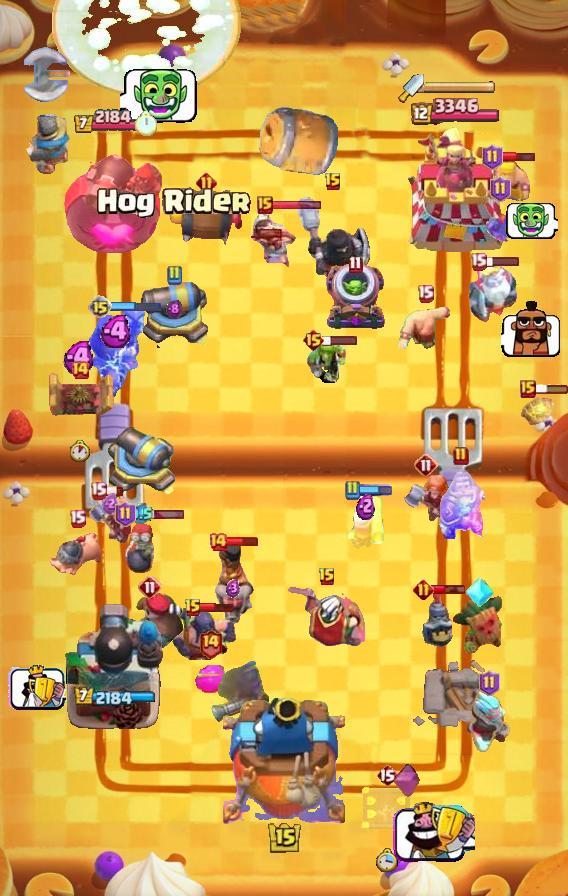axe: (21, 46, 77, 104)
bar: (110, 300, 162, 313), (133, 509, 185, 520), (270, 200, 322, 211), (501, 150, 536, 163), (431, 583, 467, 595), (357, 484, 393, 496), (322, 334, 358, 346), (484, 255, 520, 267), (534, 383, 568, 395), (199, 602, 235, 613), (225, 536, 259, 547), (104, 485, 124, 497)
bar-level: (198, 628, 223, 659), (138, 575, 162, 599), (414, 453, 438, 477), (88, 295, 112, 319), (302, 328, 325, 352), (479, 670, 500, 696), (115, 501, 136, 527), (490, 176, 511, 202), (482, 144, 503, 170), (376, 763, 398, 787), (413, 579, 434, 600), (196, 172, 217, 193), (208, 532, 228, 552), (70, 360, 90, 380), (184, 598, 202, 618), (318, 567, 336, 587), (324, 172, 342, 192), (69, 509, 86, 528), (90, 481, 107, 500), (417, 284, 434, 303), (470, 252, 487, 271), (344, 480, 360, 500), (453, 446, 469, 466), (166, 265, 182, 285), (520, 380, 536, 398), (257, 196, 273, 214), (348, 255, 363, 274)
barbarian: (398, 299, 452, 349), (483, 155, 535, 201)
barbarian-barrel: (166, 185, 246, 245)
bat-evolution: (482, 203, 518, 245)
bomber: (123, 518, 157, 574)
cannoneer-tower: (64, 601, 164, 731), (64, 138, 164, 256)
clock: (135, 111, 157, 136), (376, 848, 398, 872), (70, 440, 90, 462)
dagger-duchess-tower: (394, 126, 512, 256)
dagger-duchess-tower-bar: (424, 81, 496, 95)
dart-goblin: (451, 592, 507, 656)
elixir: (63, 341, 98, 374), (100, 315, 135, 348), (128, 503, 153, 525), (356, 492, 375, 520), (102, 493, 118, 514), (166, 299, 182, 319), (226, 579, 240, 598)
elixir-golem-small: (194, 663, 226, 693)
emote: (392, 801, 475, 864), (120, 66, 199, 126), (501, 300, 562, 358), (7, 665, 66, 711), (505, 201, 558, 241)
evolution-symbol: (393, 763, 421, 799)
executioner: (171, 606, 237, 664)
firecracker: (344, 493, 386, 551)
goblin: (304, 336, 348, 386)
guard: (413, 588, 457, 648)
hunter: (113, 592, 187, 654)
ice-spirit-evolution-symbol: (466, 575, 494, 609)
ice-wizard: (464, 689, 514, 755)
king-tower: (223, 698, 345, 826)
knight: (24, 114, 72, 175)
knight-evolution: (438, 471, 485, 539)
lava-pup: (519, 385, 559, 429)
mortar-evolution: (323, 262, 387, 332)
musketeer: (209, 660, 271, 724)
princess: (250, 210, 298, 268)
ram-rider: (211, 538, 255, 624)
royal-ghost: (467, 257, 519, 325)
royal-hog: (50, 531, 104, 577)
tesla: (45, 370, 115, 420)
tower-bar: (408, 98, 499, 127), (73, 109, 155, 135), (73, 687, 155, 708)
valkyrie: (401, 475, 451, 523), (88, 496, 132, 546)
